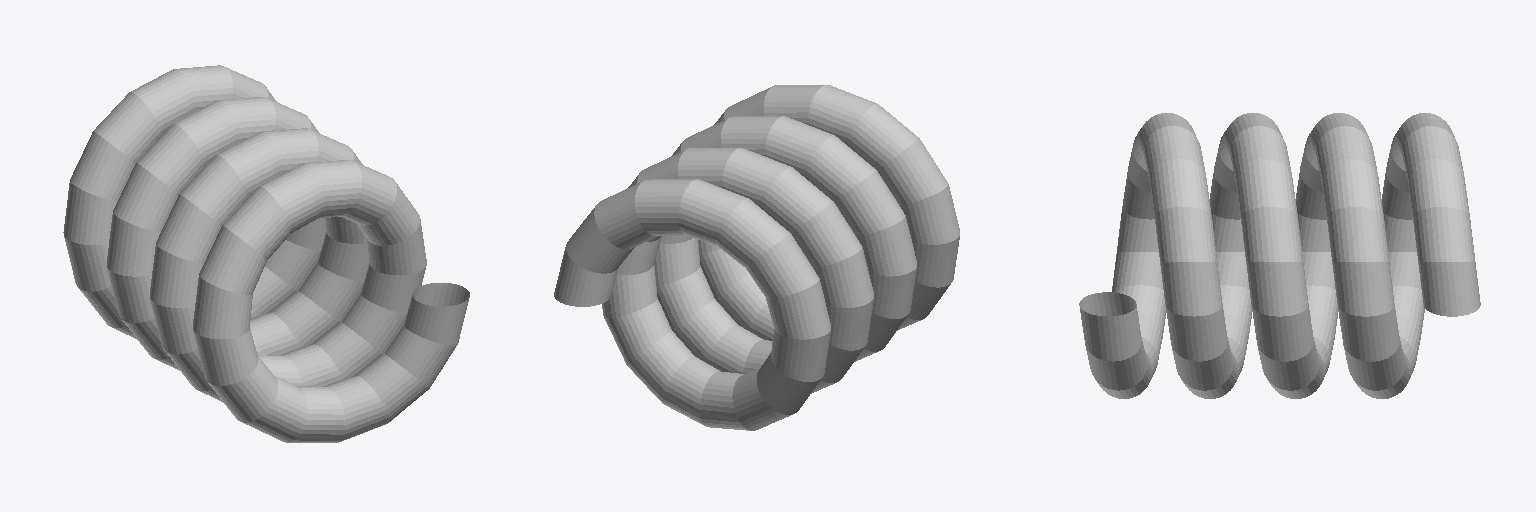
The model's file is spring.obj.
3 views of the same model, side by side, from view 1: azimuth 30°, elevation 25°; view 2: azimuth 150°, elevation 25°; view 3: azimuth 270°, elevation 25° (orthographic).
Parts seen in each view (by area): view 1: Circle_Circle.002; view 2: Circle_Circle.002; view 3: Circle_Circle.002.
Boxes of the visible parts, x1,y1,x2,y2 form: Circle_Circle.002: [63, 65, 469, 442]; Circle_Circle.002: [554, 85, 959, 430]; Circle_Circle.002: [1079, 113, 1480, 398].
Size of the model in its own units: 5 by 5 by 7.